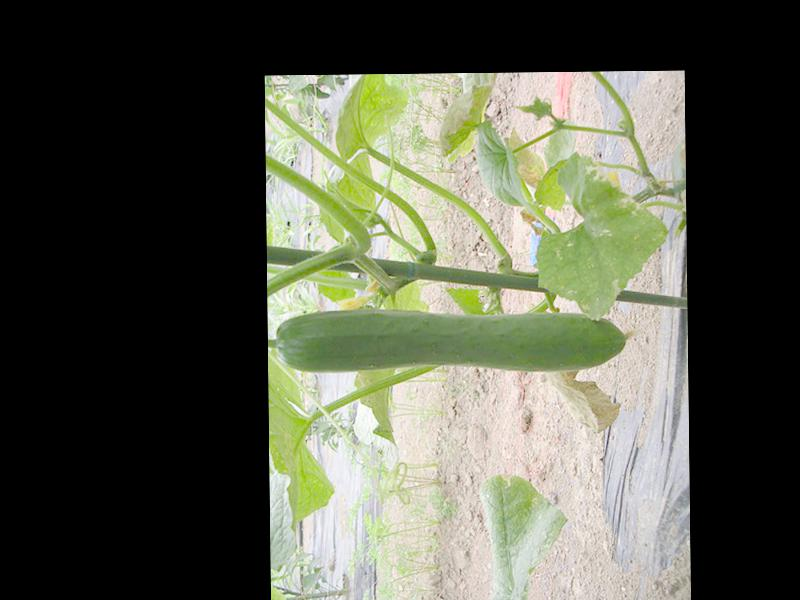Cucumber: (275, 305, 635, 374)
